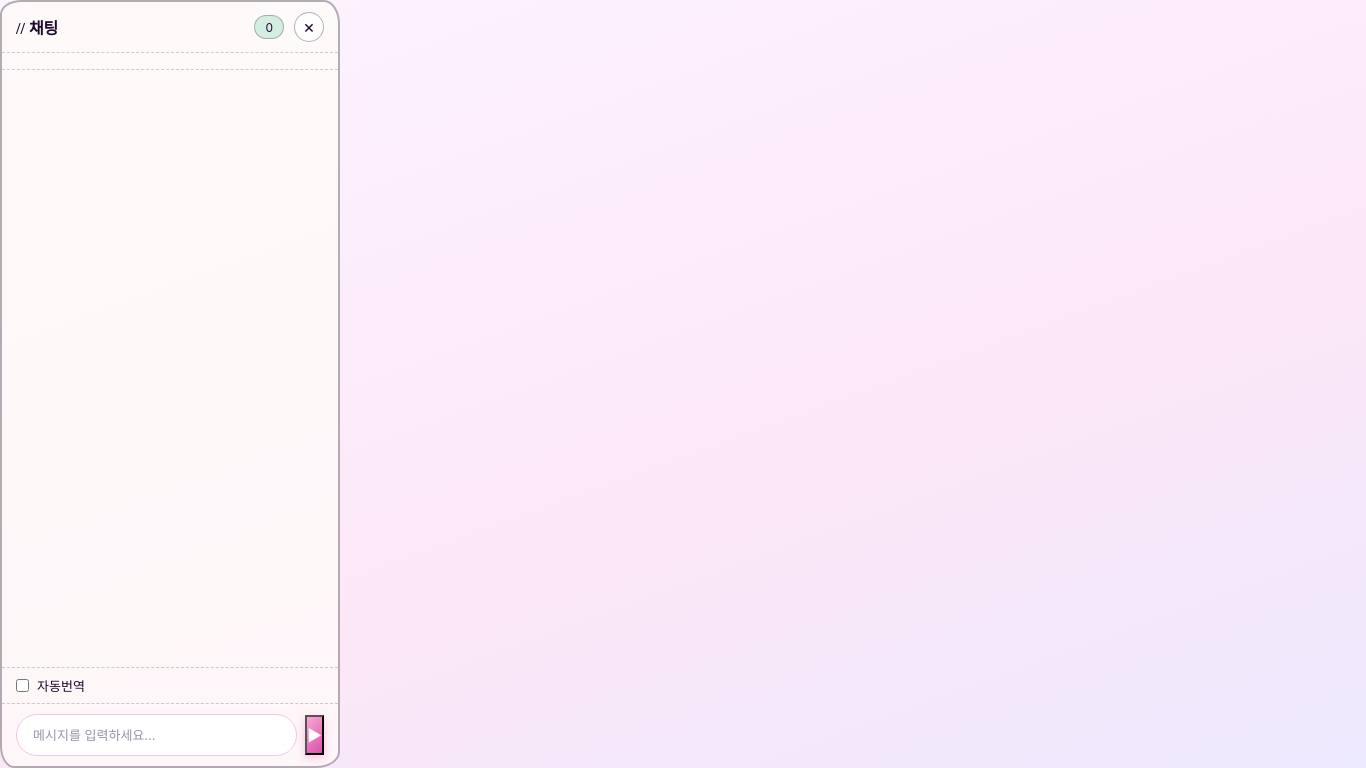
Test: ChatDock 입력창 › 서버가 거절하면 입력을 보존하고 사유에 맞는 실패를 알린다
The width and height of the screenshot is (1366, 768).
Step 1. Type "hello" into the field → (157, 735), box x1=16 y1=714 x2=297 y2=756
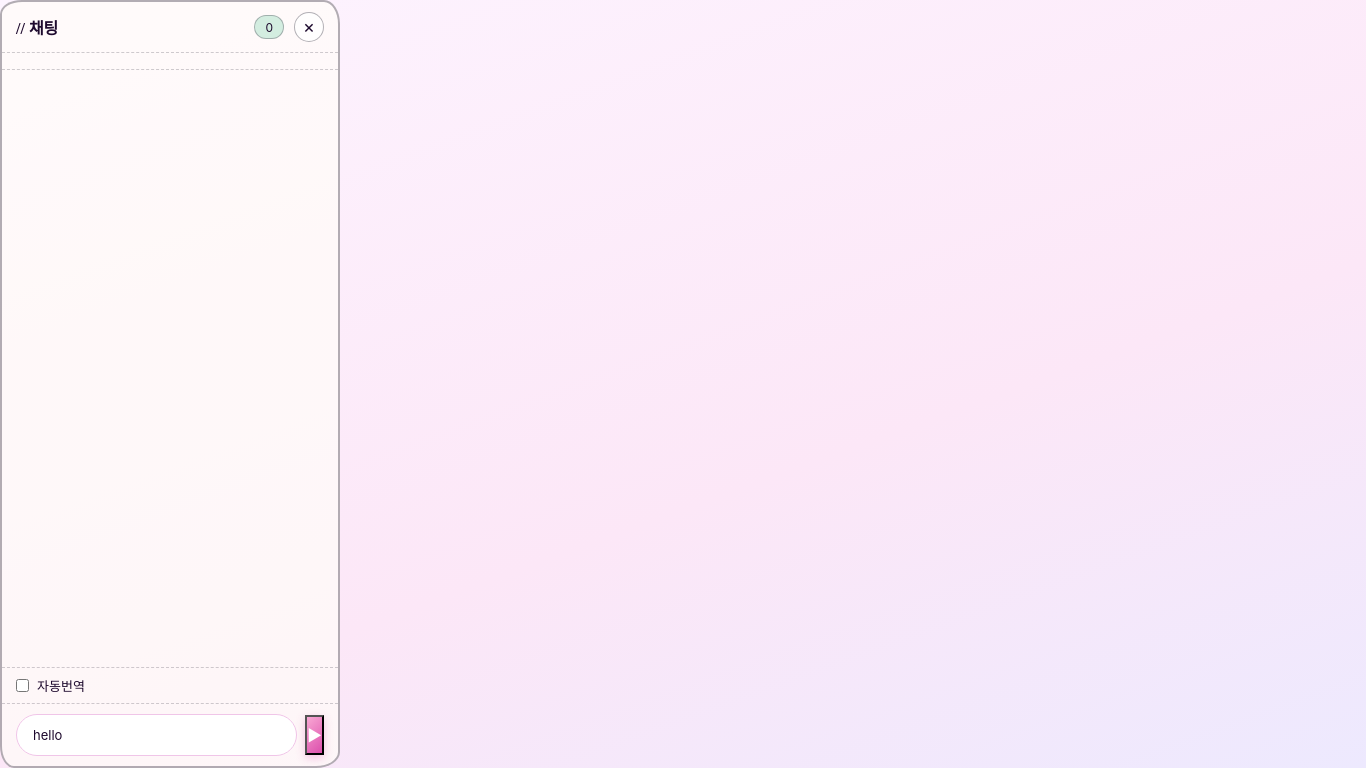
Step 2. Press Enter in the field, box x1=16 y1=714 x2=297 y2=756
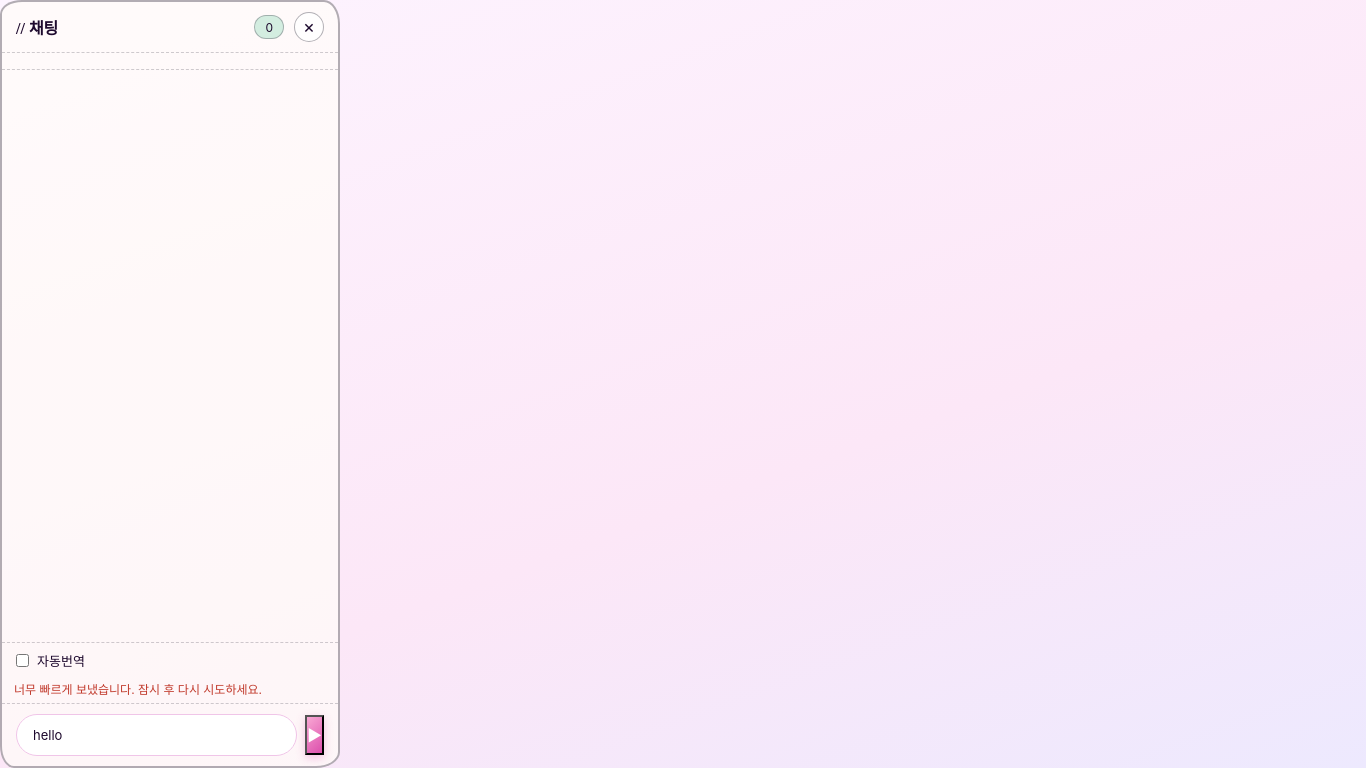
사유를 실제로 읽는지 — 다른 사유는 다른 문구여야 한다.
Step 3. Press Enter in the field, box x1=16 y1=714 x2=297 y2=756
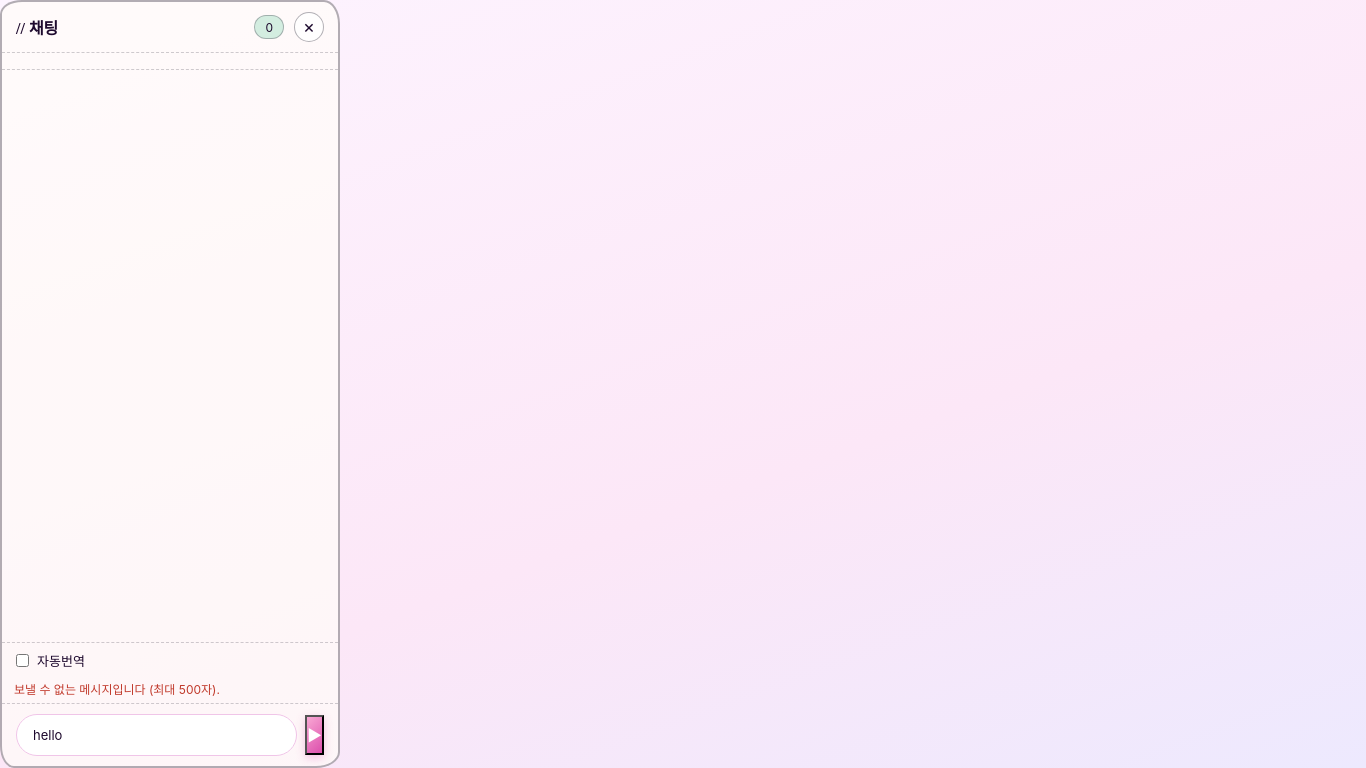
Expected: the message with test id "chat-send-error" no longer shows "너무 빠르게 보냈습니다. 잠시 후 다시 시도하세요."
